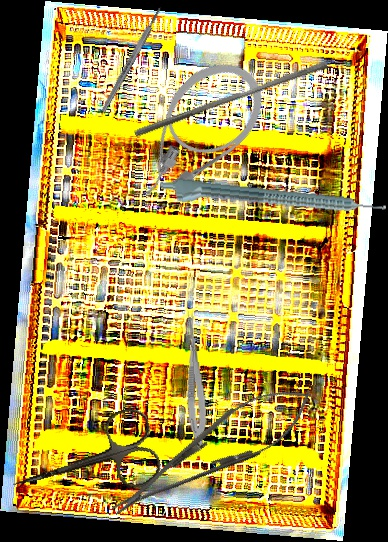Cannula: (109, 45, 280, 215)
Handpiece: (158, 176, 387, 226)
Iris Scissors: (1, 404, 166, 521)
Micro Scissor: (179, 310, 210, 449)
Needle Holder: (98, 368, 325, 535)
Pusher: (133, 54, 329, 145)
Scalpel Handle: (99, 5, 164, 115)
